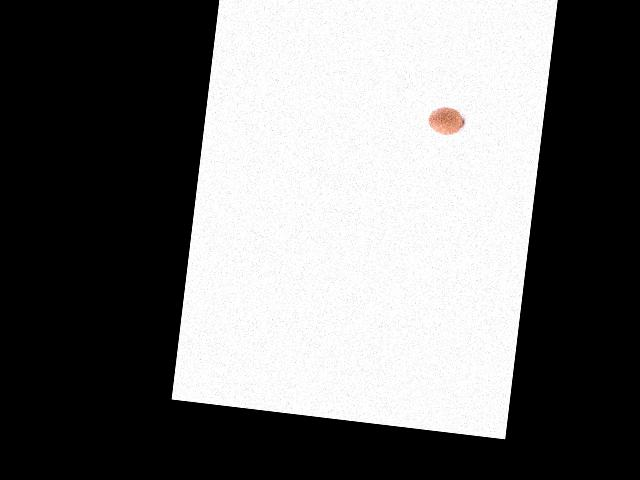egg: (427, 104, 464, 136)
